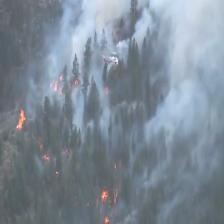fire: (43, 63, 111, 101), (90, 184, 118, 222), (14, 106, 30, 132), (36, 150, 52, 163)
